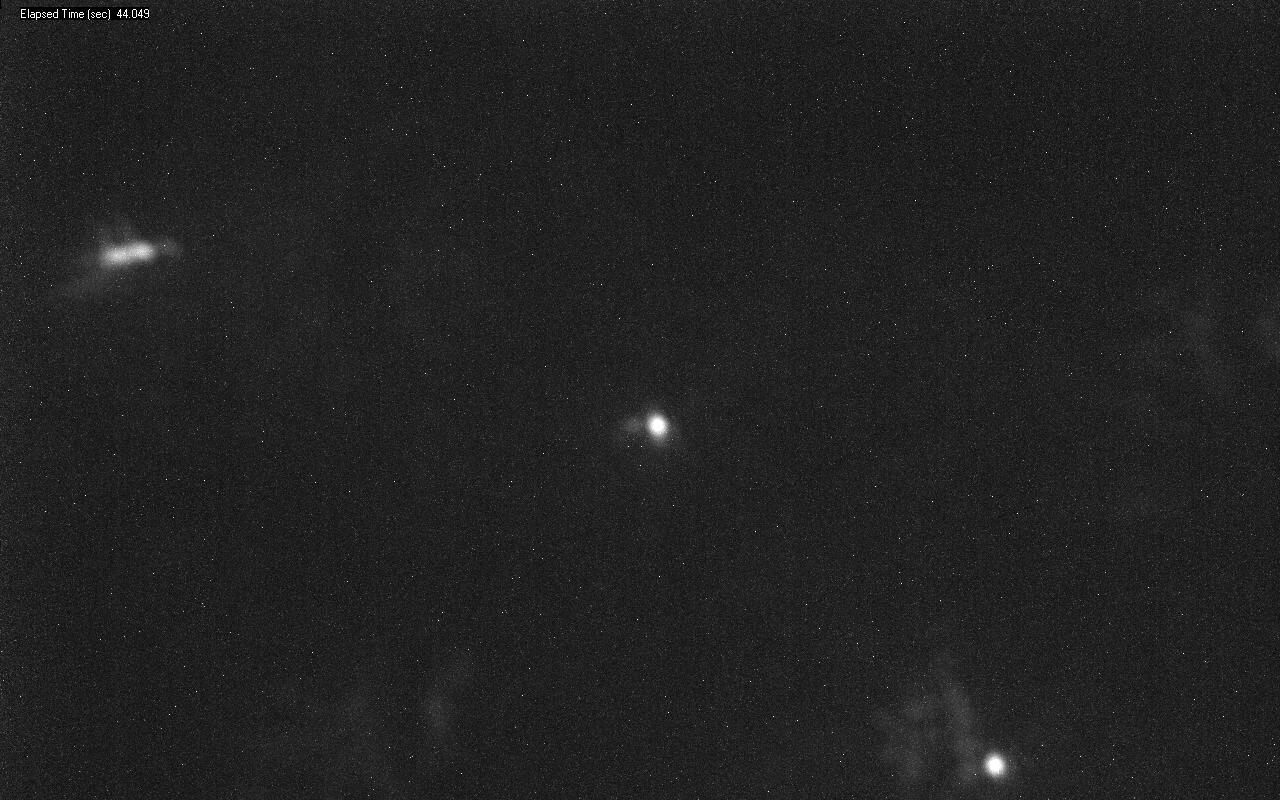Bead: (644, 412, 670, 442), (984, 755, 1004, 776)
